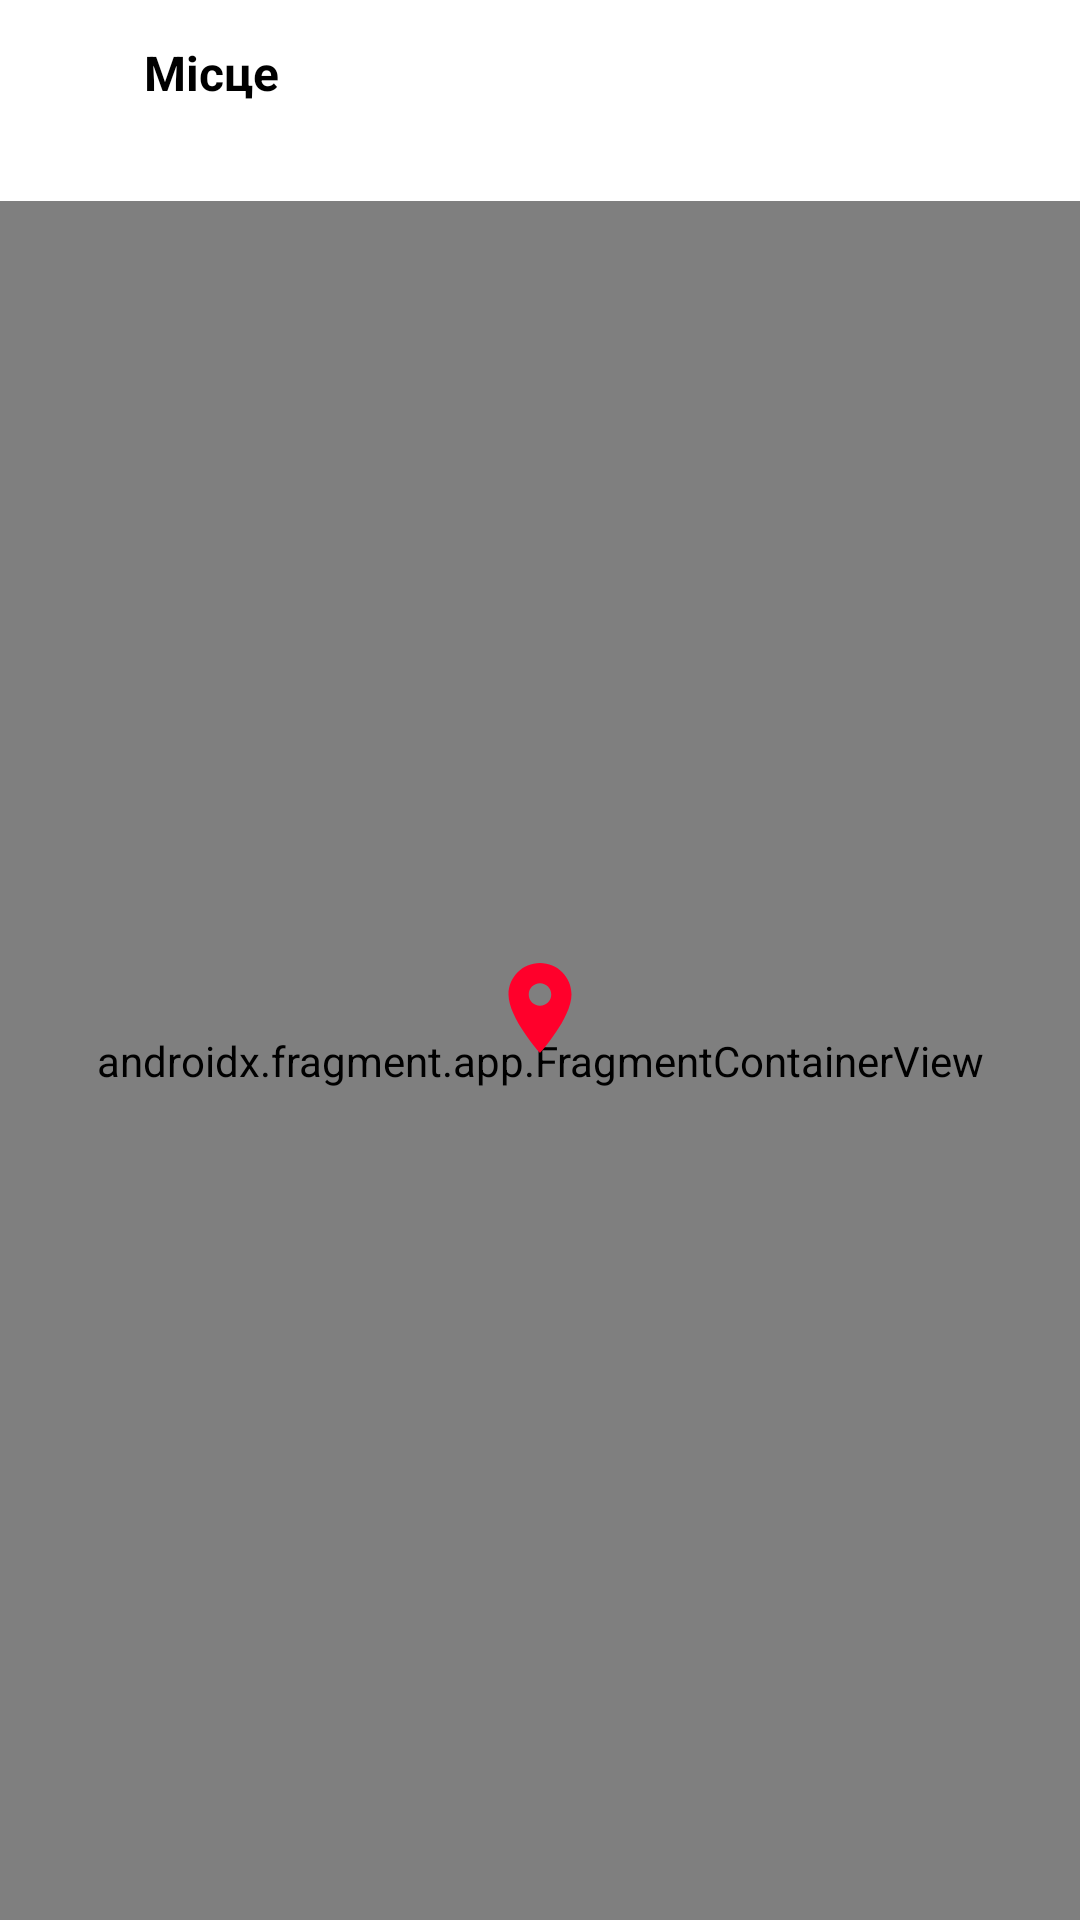

Icons on this 1080 × 1920 Android screen, each with the point to tap as [x,y]:
location on: [538,1012]
